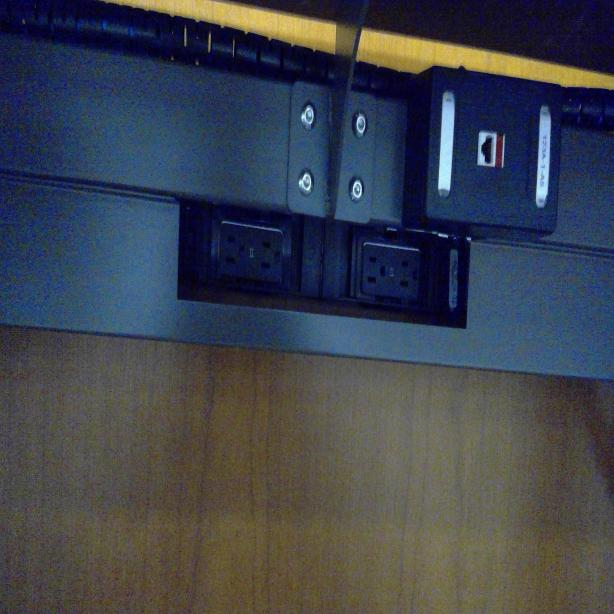typeb: (220, 226, 247, 272), (257, 234, 283, 279), (396, 251, 420, 296), (365, 247, 388, 292)
